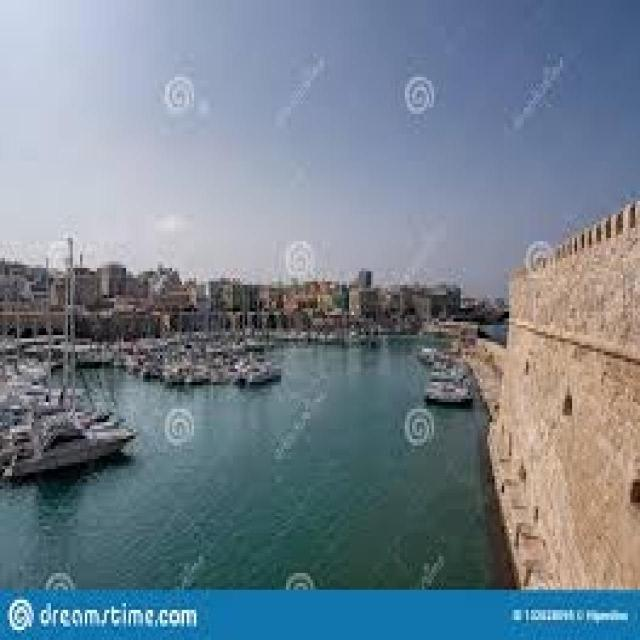Kules: (484, 197, 640, 592)
